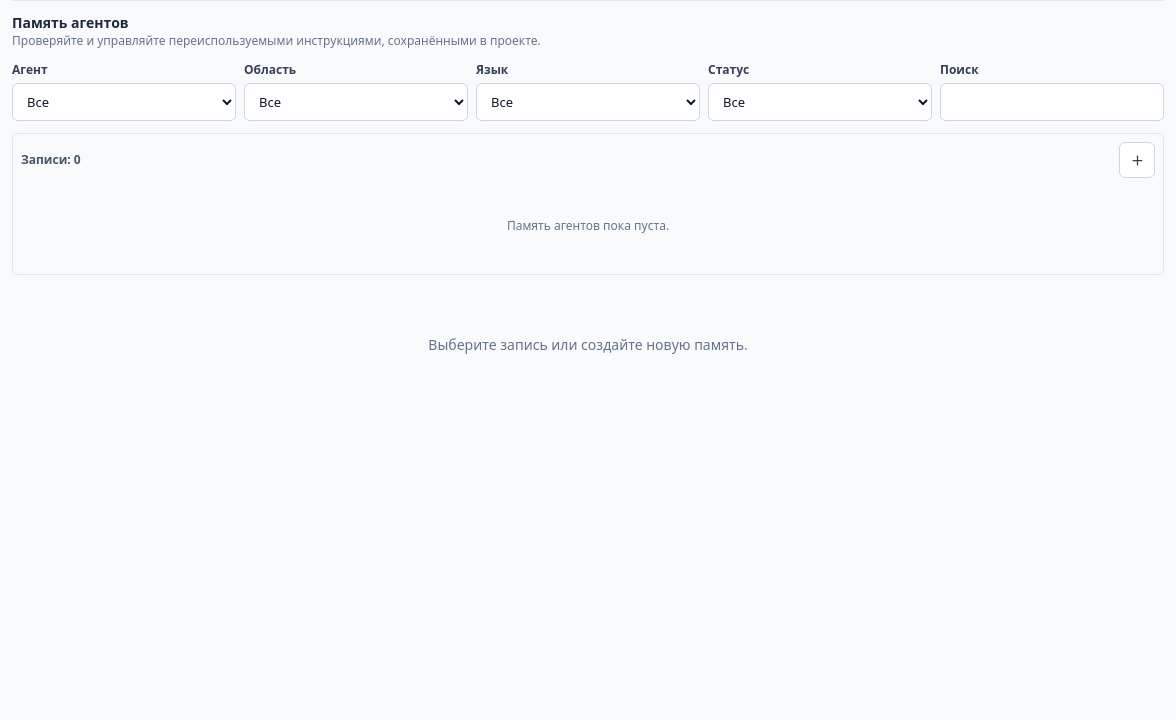
Test: AgentMemoryManager › keeps Russian UI labels independent from English memory content
The image size is (1176, 720).
Click the button named "Создать запись памяти" at (1137, 160), box [1119, 142, 1155, 178]
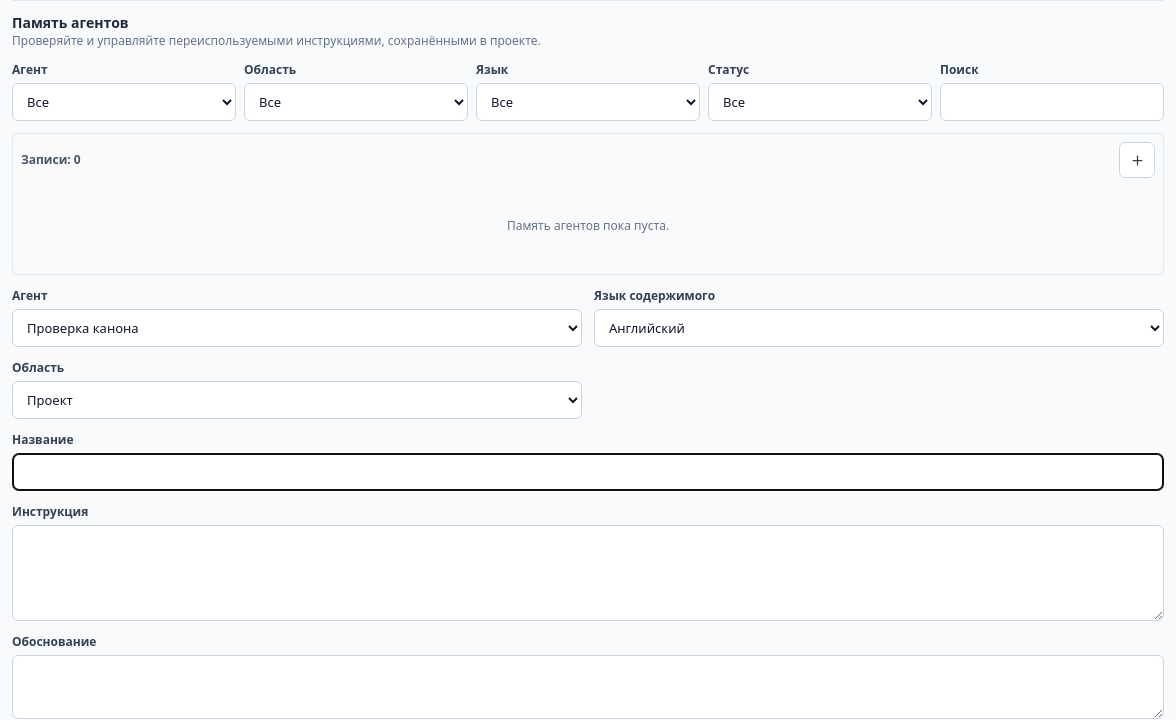
Expected: the dropdown labelled "Язык содержимого" shows "Английский", [594, 309, 1164, 347]
